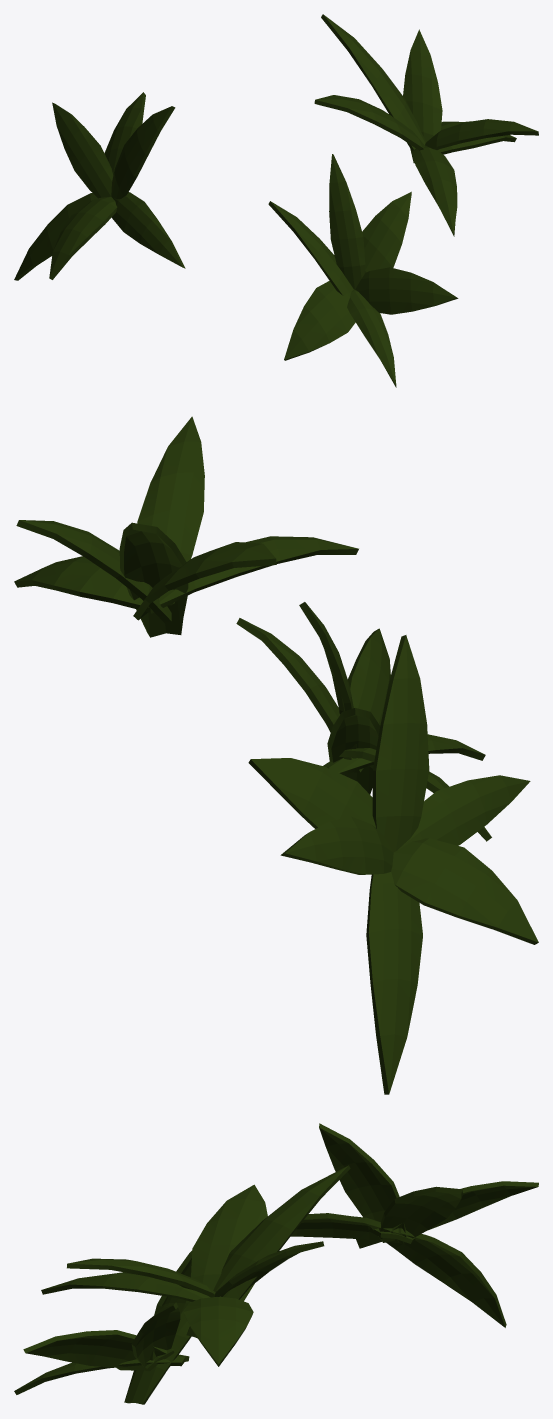
3 views of the same model, one above another, from view 1: azimuth 30°, elevation 25°; view 2: azimuth 150°, elevation 25°; view 3: azimuth 270°, elevation 25° (orthographic). The views are drawn at different scales.
Visible parts, largest first — view 1: Plant_1_(Taneman_1); view 2: Plant_1_(Taneman_1); view 3: Plant_1_(Taneman_1).
Part boxes in pixels (x1=…): Plant_1_(Taneman_1): x1=14, y1=14, x2=538, y2=387; Plant_1_(Taneman_1): x1=14, y1=416, x2=538, y2=1094; Plant_1_(Taneman_1): x1=14, y1=1123, x2=538, y2=1404.
Size of the model in its own units: 6.18 by 3.82 by 6.29.
